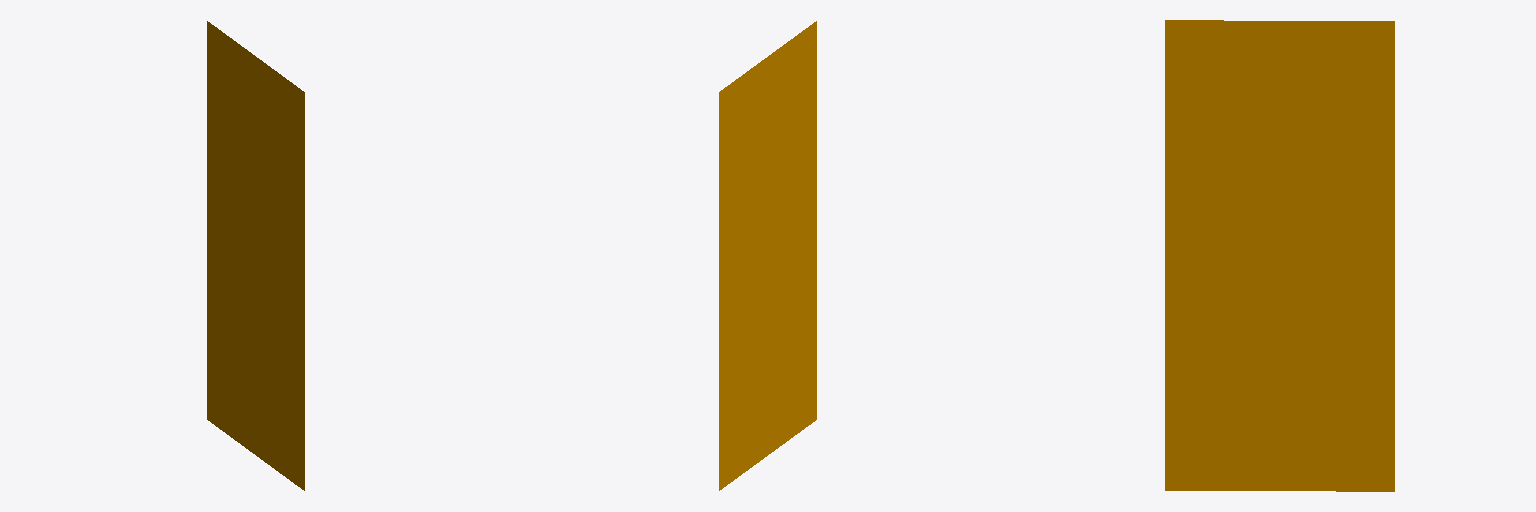
URDF robot description (8X18ground):
<?xml version='1.0' encoding='UTF-8'?>
<robot name="8X18ground">
  <link name="base_link">
    <visual name="base_link_visual">
      <geometry>
        <mesh filename="8X18ground.dae" scale="1. 1. 1."/>
      </geometry>
      <origin xyz="0 0 0" rpy="1.57 0 1.57"/>
    </visual>
    <collision name="base_link_collision">
      <geometry>
        <mesh filename="8X18ground.dae" scale="1. 1. 1."/>
      </geometry>
      <origin xyz="0 0 0" rpy="1.57 0 1.57"/>
    </collision>
  </link>
</robot>

--- Render facts (derived) ---
Views: 3 orthographic renders of the robot side by side, from view 1: azimuth 30°, elevation 25°; view 2: azimuth 150°, elevation 25°; view 3: azimuth 270°, elevation 25°.
Robot: 8X18ground — 1 links, 0 joints (none); root link base_link; default pose: every joint at zero.
Visible links, largest first — view 1: base_link; view 2: base_link; view 3: base_link.
Boxes of the visible links, x1,y1,x2,y2 form: base_link: (207, 21, 304, 490); base_link: (719, 21, 816, 490); base_link: (1165, 20, 1394, 491).
Size in the robot's own frame: 0.0207 by 8 by 18 metres.
1 mesh visuals loaded from 1 distinct referenced files (1 Collada DAE).